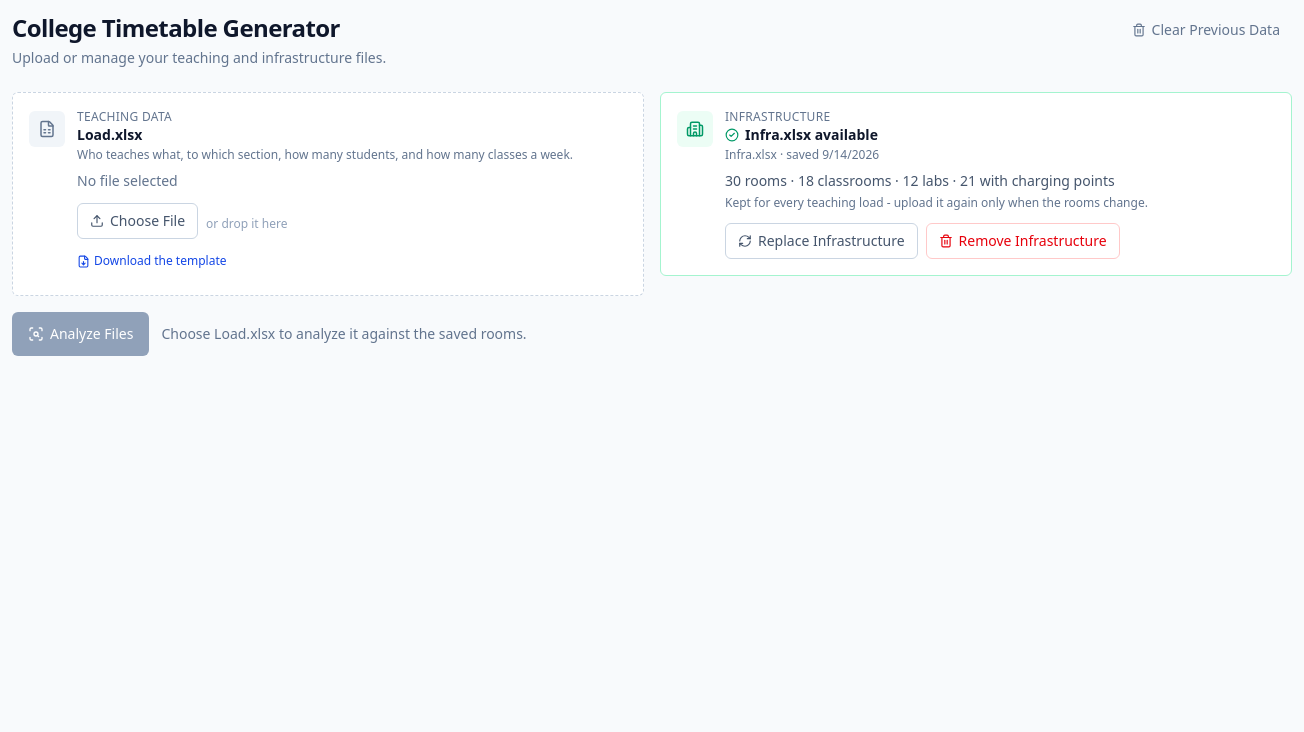
the dashboard › clears data only after saying what goes and being ticked
Step 1. Click the button "Clear Previous Data" → (1206,30), box [1120,12,1292,48]
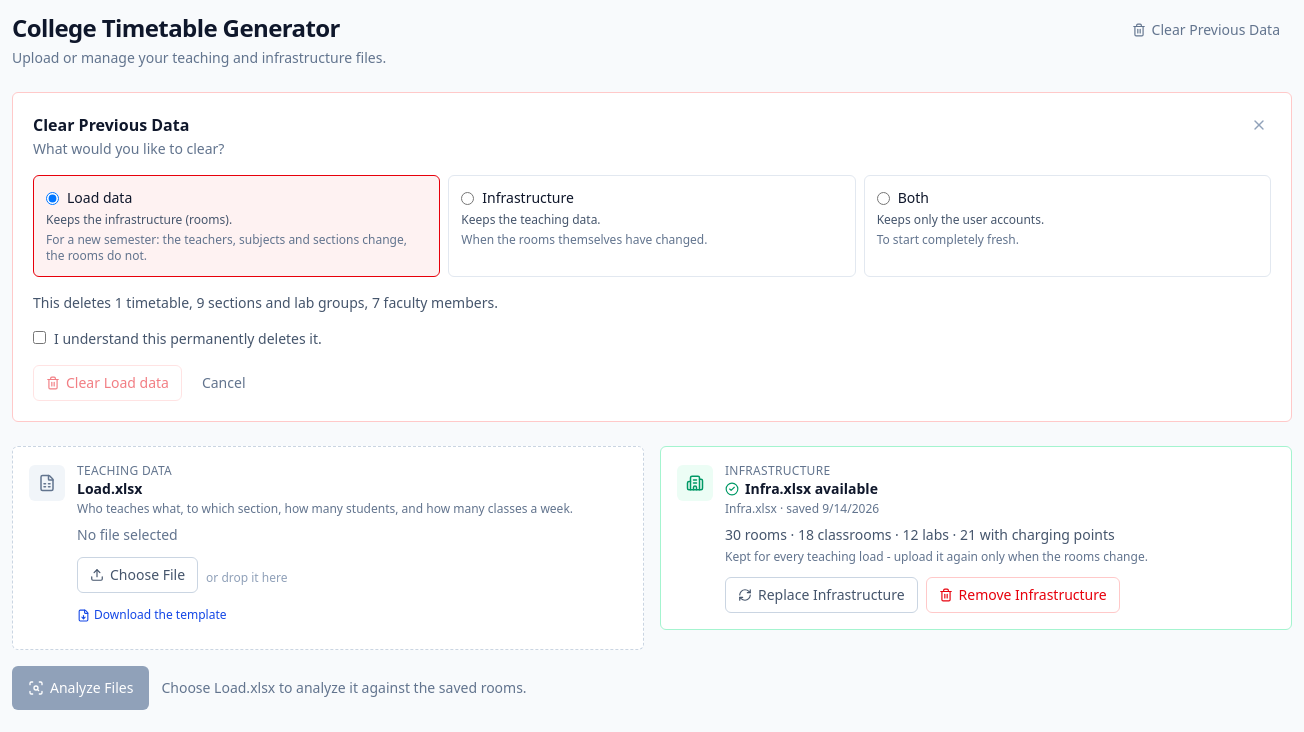
Now the text "This deletes 1 timetable, 9 sections and lab groups, 7 faculty members." is shown, box [33,293,498,312]
Step 2. Click the checkbox labelled "I understand this permanently deletes it." → (40,338), box [33,331,46,344]
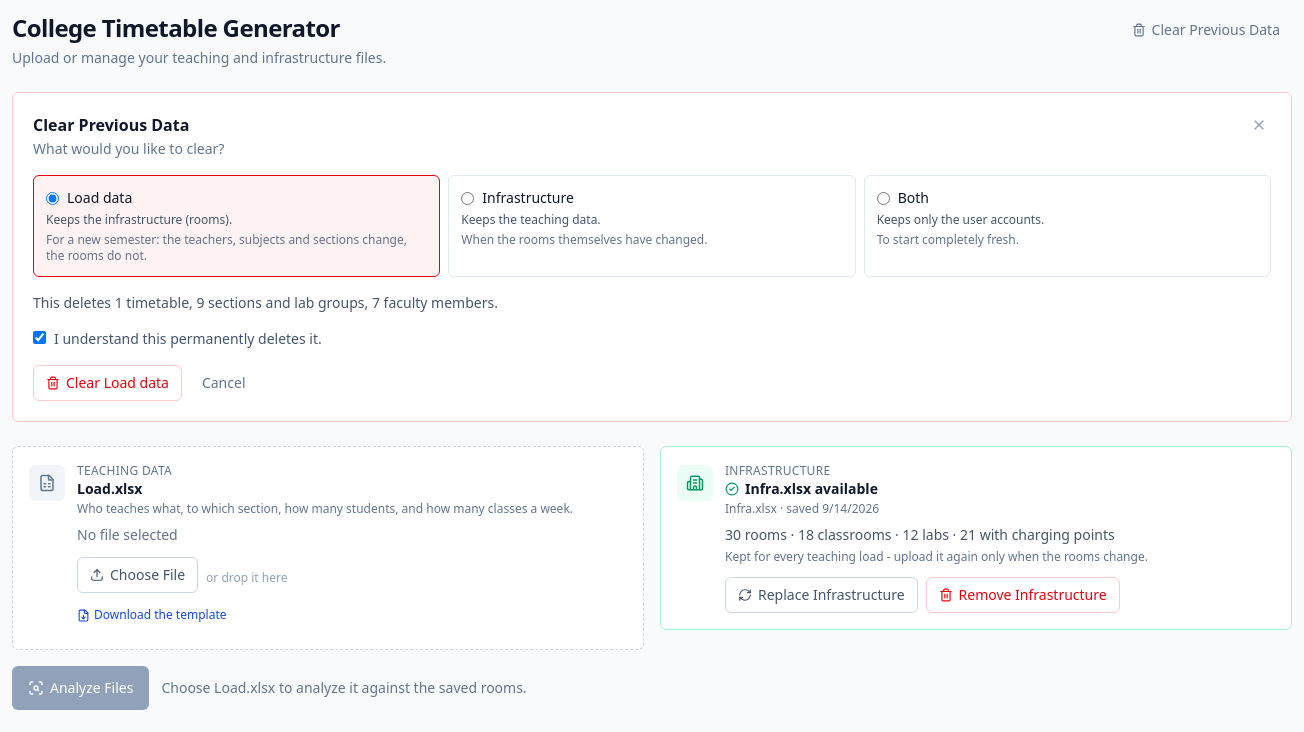
Step 3. Click the button "Clear Load data" → (107,383), box [33,365,182,401]
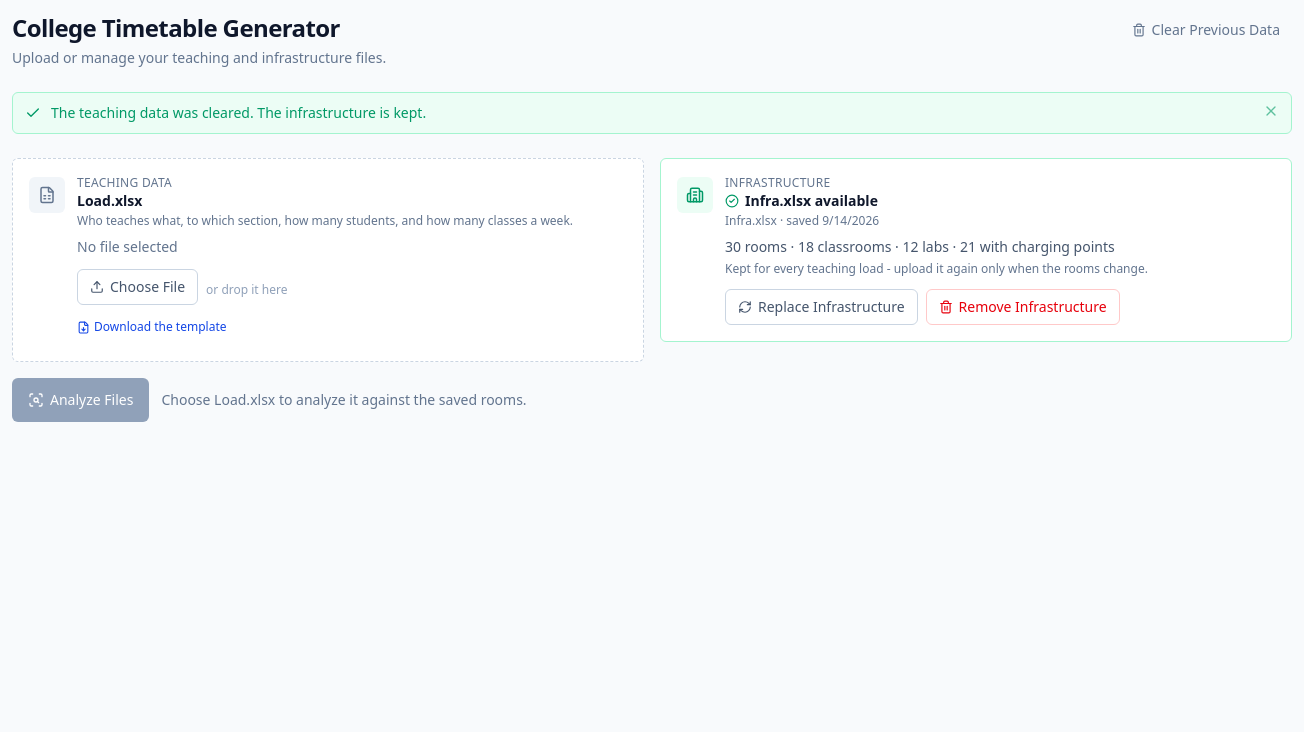
Now the text "The teaching data was cleared. The infrastructure is kept." is shown, box [51,103,426,122]
